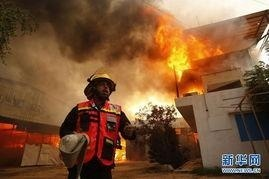fire: (146, 7, 222, 96), (113, 142, 127, 161)
